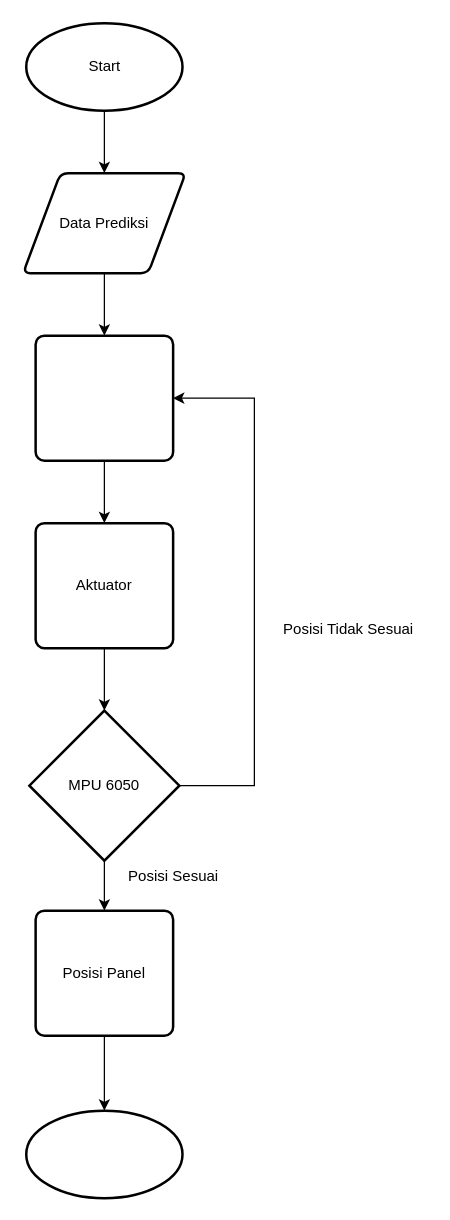
Image size: 450x1220. Some labels were removed from this diagram. Each missing label, with the centre of its shape:
End: point (103, 1154)
Mikrokontroller: point (104, 397)
